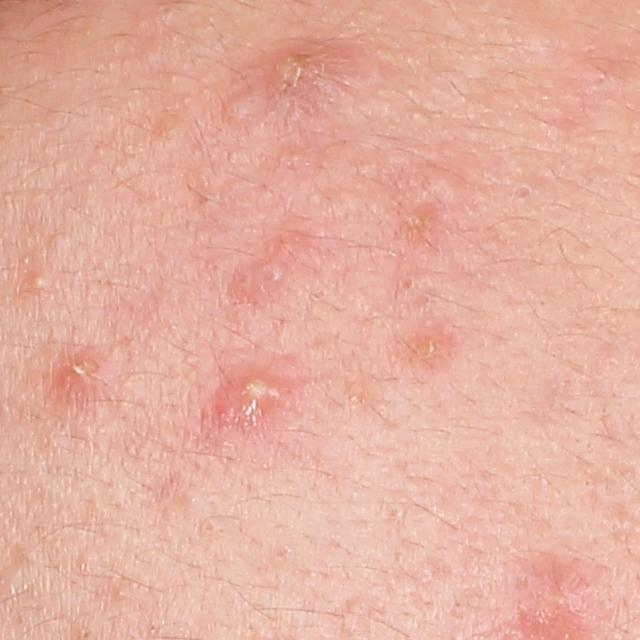comedo: (415, 163, 463, 206), (223, 94, 250, 122), (27, 275, 47, 291)
pustule: (207, 370, 288, 427), (267, 49, 352, 102), (62, 352, 115, 396)
